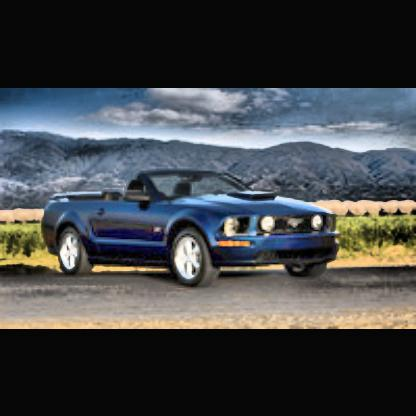Ford Mustang Convertible 2007: (43, 171, 346, 293)
